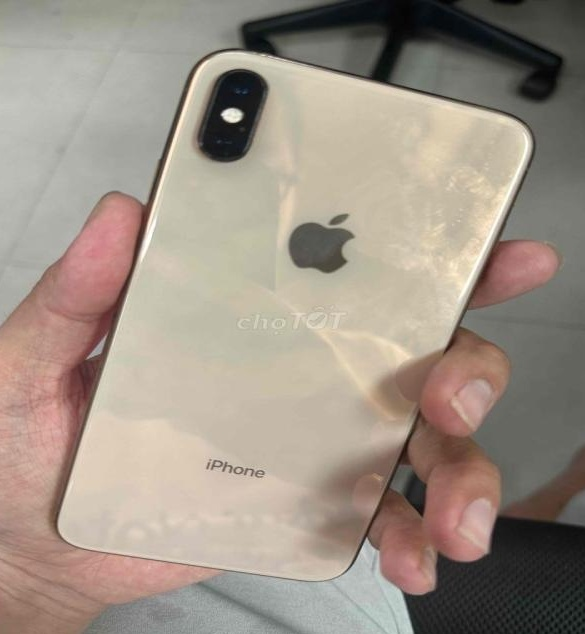scratch: (240, 44, 319, 73)
